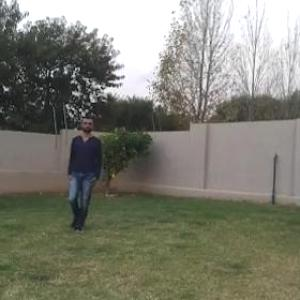follow: (68, 119, 96, 229)
